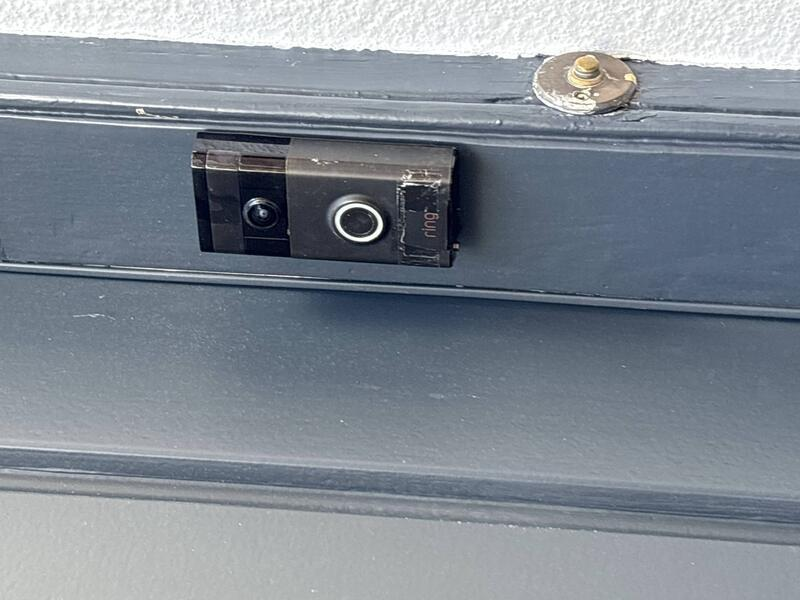doorbell: (333, 172, 459, 466)
